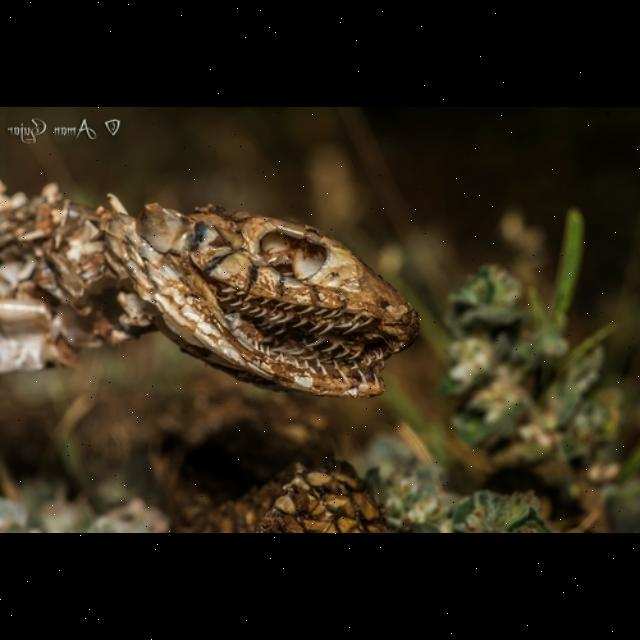snake: (0, 188, 428, 404)
